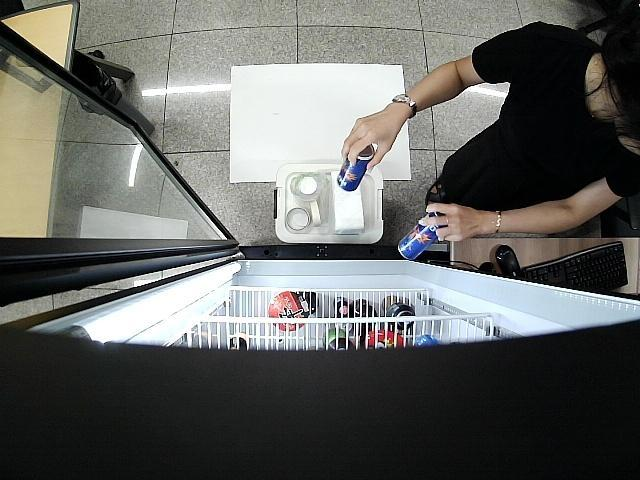16_hot6: (396, 212, 444, 264), (336, 145, 374, 193)
